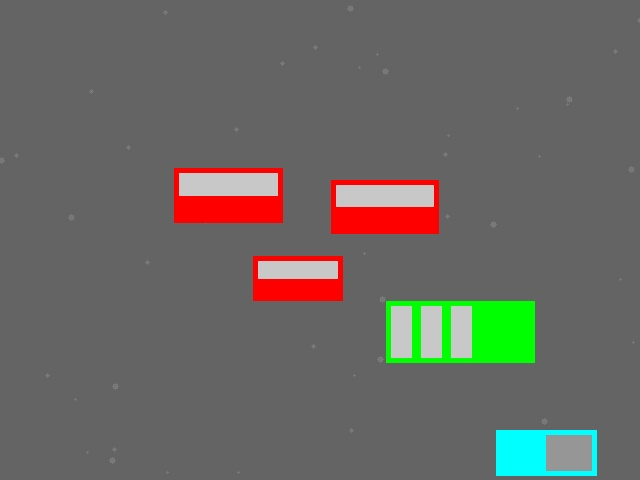bus: (386, 301, 534, 362)
car: (174, 168, 282, 222), (331, 180, 438, 233), (253, 256, 342, 300)
truck: (496, 430, 596, 475)
